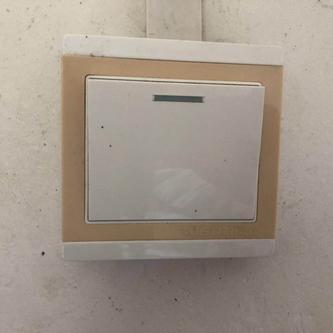switch: (84, 70, 267, 230)
